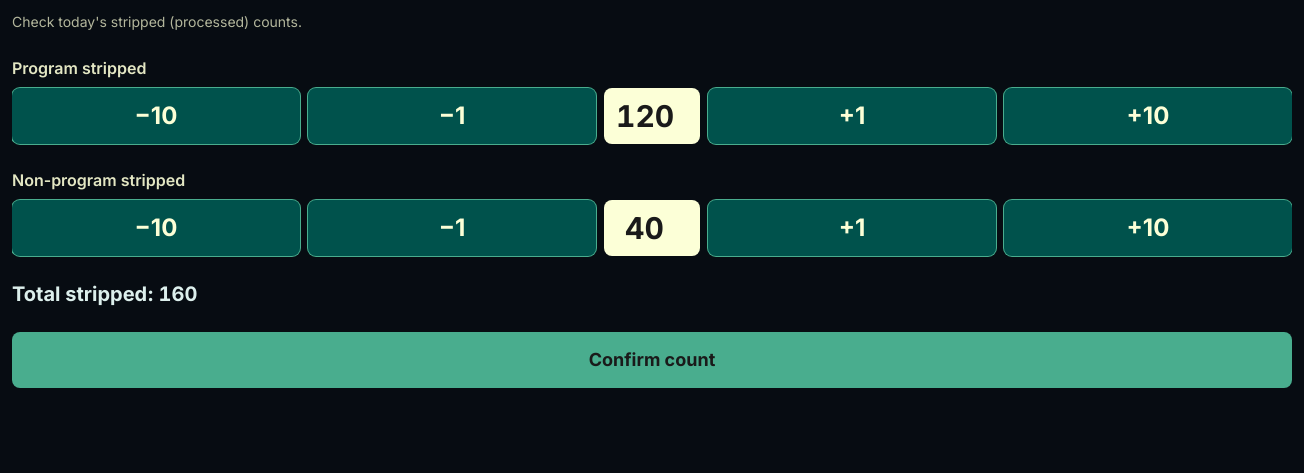
Test case: 401 › says the sign-in expired, with no reload on offer
Click the button "Confirm count": (652, 360) [12,332,1292,388]
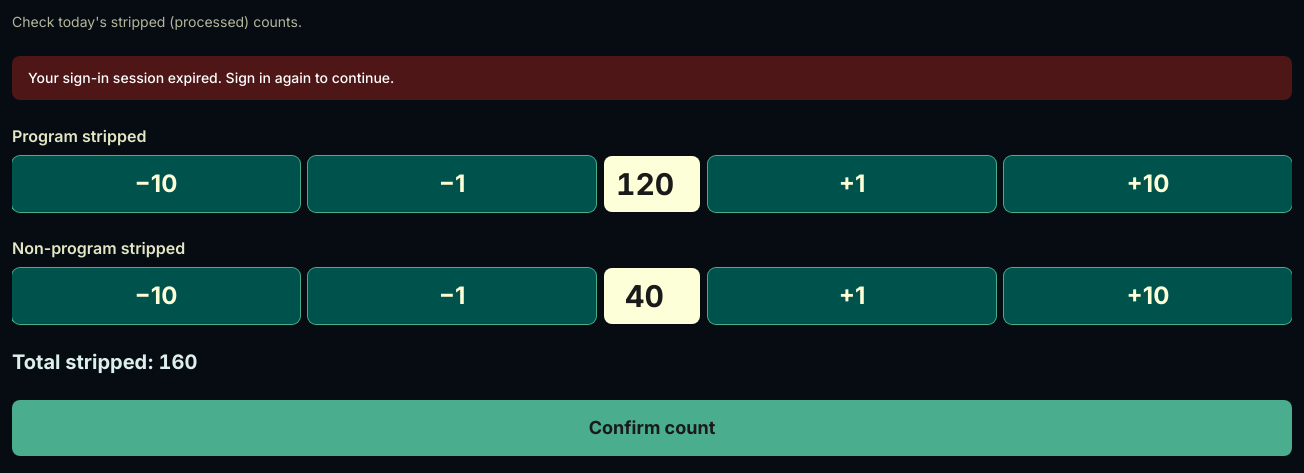
Now the text "Your sign-in session expired. Sign in again to continue." is shown, box [12,56,1292,100]
